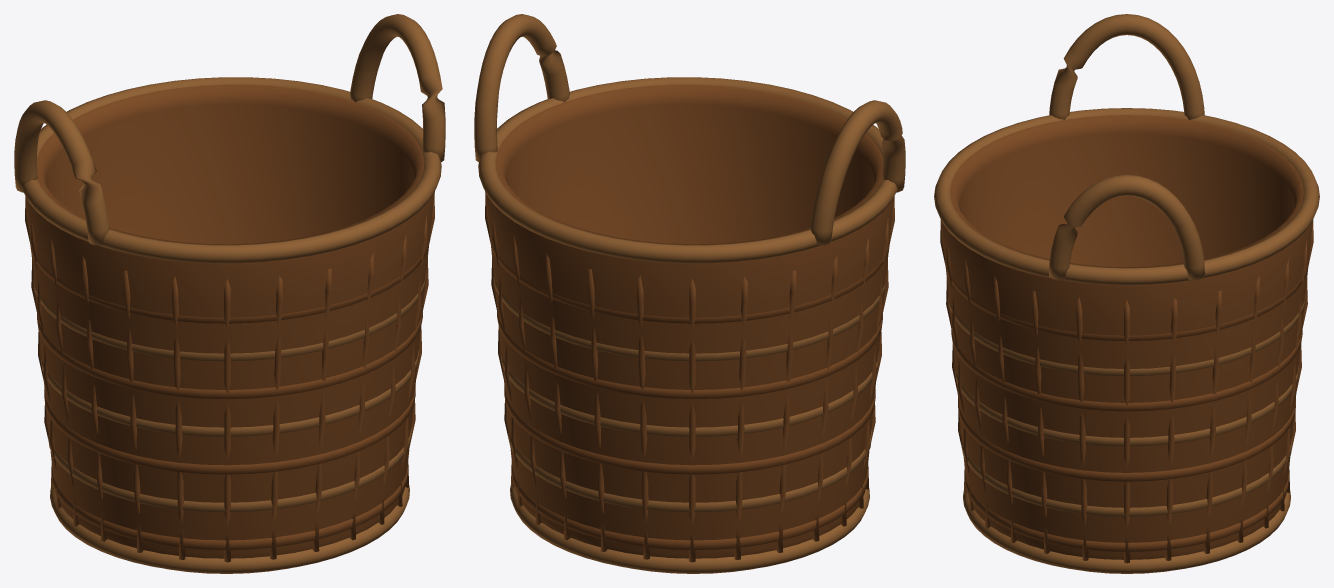
The model's file is SM_BunkerLaundryHamper.fbx.
3 renders of one model, left to right at view 1: azimuth 30°, elevation 25°; view 2: azimuth 150°, elevation 25°; view 3: azimuth 270°, elevation 25°, orthographic. The views are drawn at different scales.
Visible parts, largest first — view 1: SM_BunkerLaundryHamper; view 2: SM_BunkerLaundryHamper; view 3: SM_BunkerLaundryHamper.
Part boxes in pixels (x1,y1,x2,y2): SM_BunkerLaundryHamper: [14, 14, 445, 573]; SM_BunkerLaundryHamper: [474, 14, 905, 573]; SM_BunkerLaundryHamper: [934, 14, 1319, 573].
Bounding box in the file's own units: 56.8 × 54.55 × 64.83.
